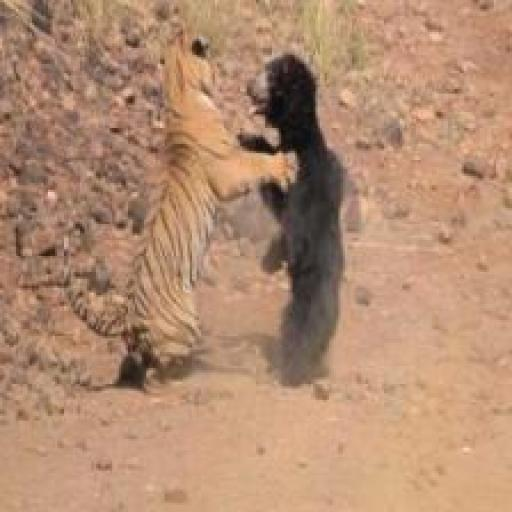Tiger: (85, 30, 258, 398)
